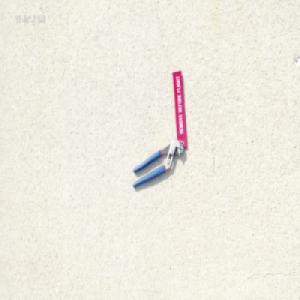Label: (168, 66, 187, 148)
Pliers: (131, 138, 183, 187)
